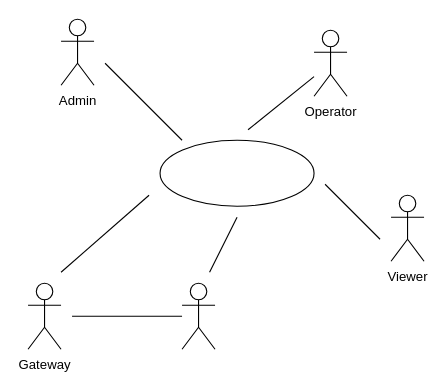
Some shapes in this 447 by 392 pixel diagram are drawn without their labels. The centre of each missing label's shape, as x and y in pixels:
"GeoControl" goes at point (236, 172).
"Sensor" goes at point (198, 315).
